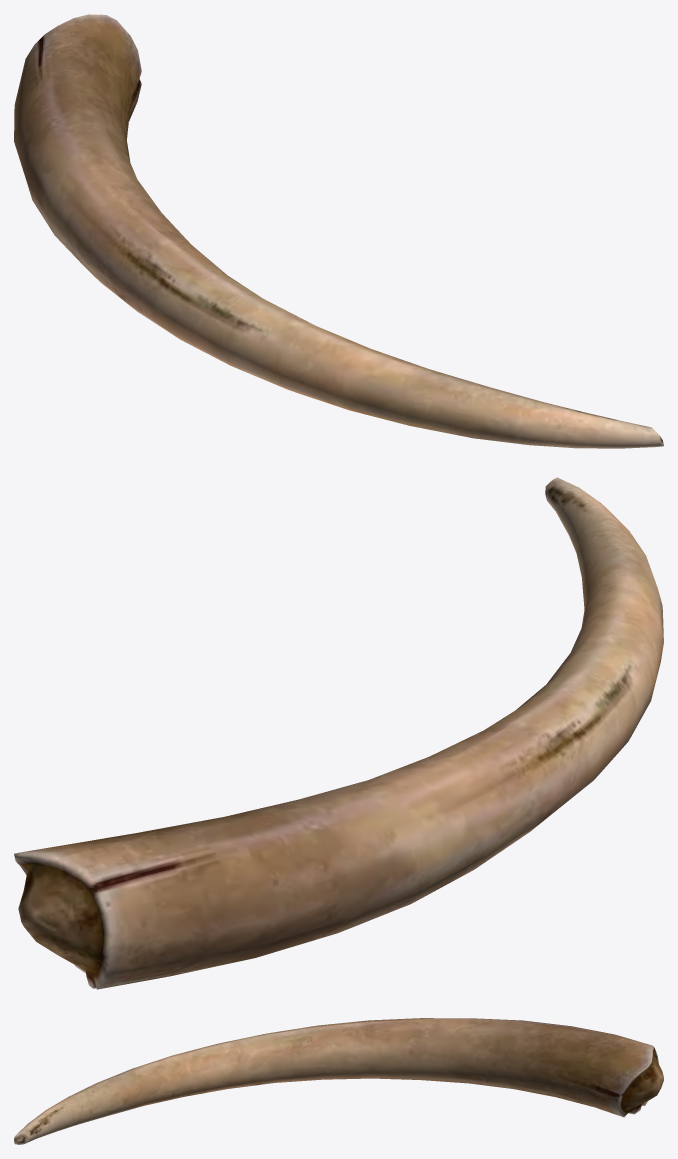
3 renders of one model, top to bottom at view 1: azimuth 30°, elevation 25°; view 2: azimuth 150°, elevation 25°; view 3: azimuth 270°, elevation 25°, orthographic. The views are drawn at different scales.
Visible parts, largest first — view 1: SM_Dec_Garou_Materials_Tusks_01_LOD0; view 2: SM_Dec_Garou_Materials_Tusks_01_LOD0; view 3: SM_Dec_Garou_Materials_Tusks_01_LOD0.
Part boxes in pixels (x1,y1,x2,y2): SM_Dec_Garou_Materials_Tusks_01_LOD0: (14,14,663,448); SM_Dec_Garou_Materials_Tusks_01_LOD0: (14,477,663,989); SM_Dec_Garou_Materials_Tusks_01_LOD0: (14,1018,663,1144).
Size of the model in its own units: 0.4995 by 0.1919 by 1.57.
